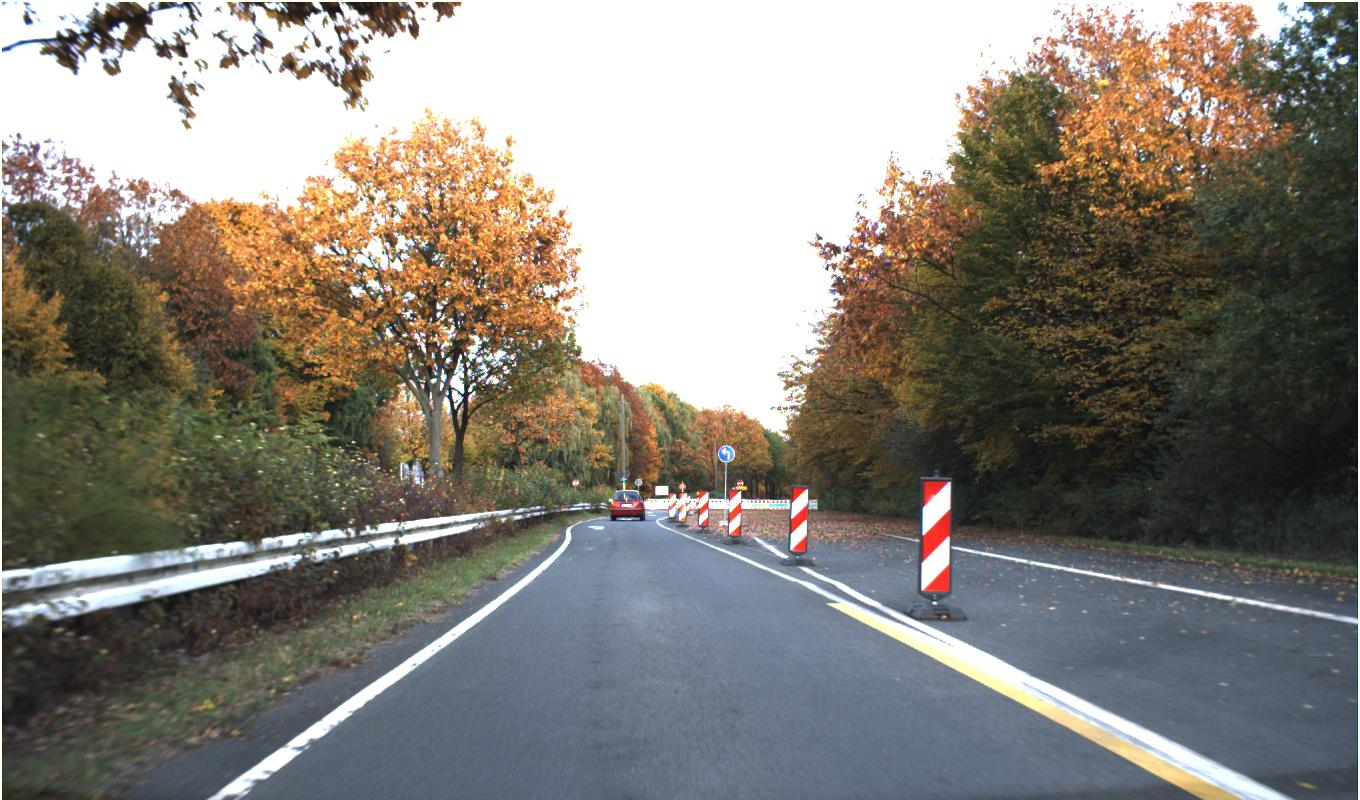mandatory: (717, 445, 735, 462)
